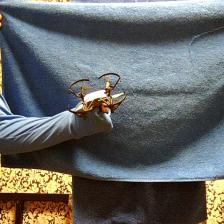drone: (66, 70, 128, 118)
